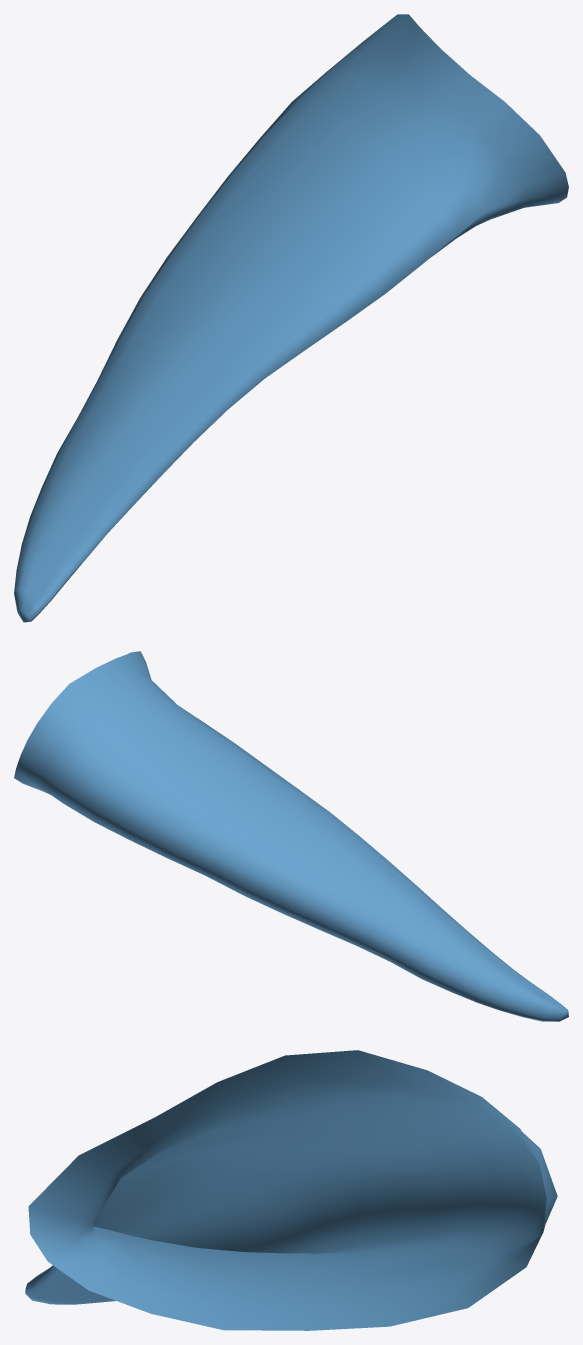
Rendered from aletas_izq_2.obj.
3 renders of one model, top to bottom at view 1: azimuth 30°, elevation 25°; view 2: azimuth 150°, elevation 25°; view 3: azimuth 270°, elevation 25°, orthographic. The views are drawn at different scales.
Visible parts, largest first — view 1: aletas_Izq_shark.003; view 2: aletas_Izq_shark.003; view 3: aletas_Izq_shark.003.
Boxes of the visible parts, left/top/right/bottom form: aletas_Izq_shark.003: left=14, top=14, right=568, bottom=622; aletas_Izq_shark.003: left=14, top=651, right=568, bottom=1021; aletas_Izq_shark.003: left=25, top=1050, right=557, bottom=1330.
Size of the model in its own units: 16.79 by 11.51 by 8.82.
